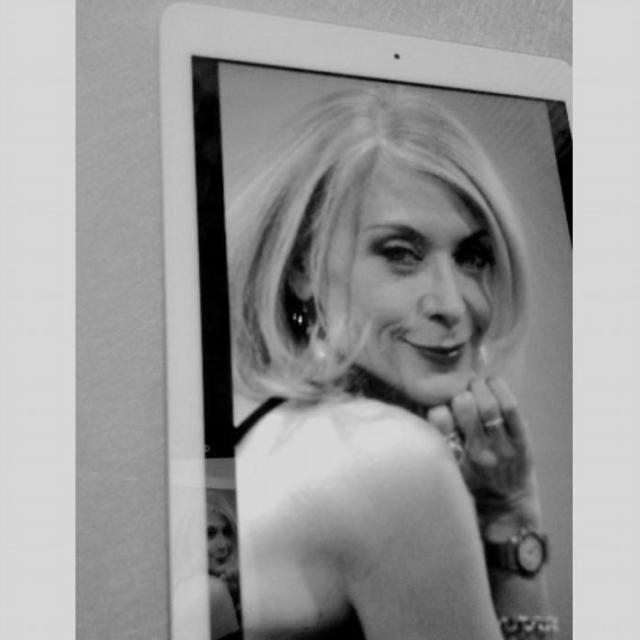fake: (154, 0, 571, 640)
